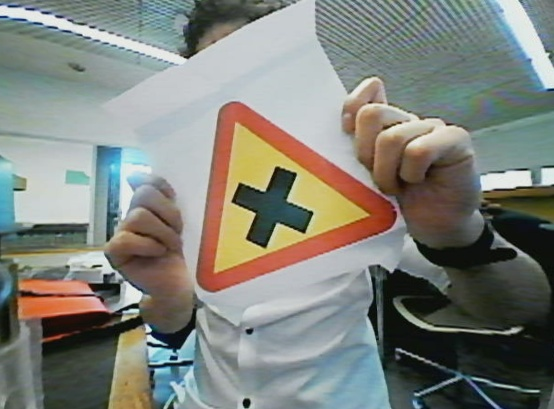junction: (184, 93, 420, 303)
